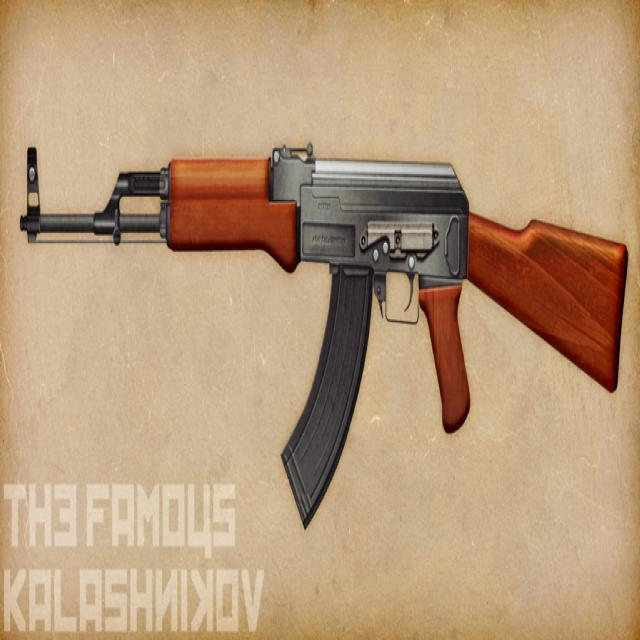weapon: (18, 142, 630, 530)
